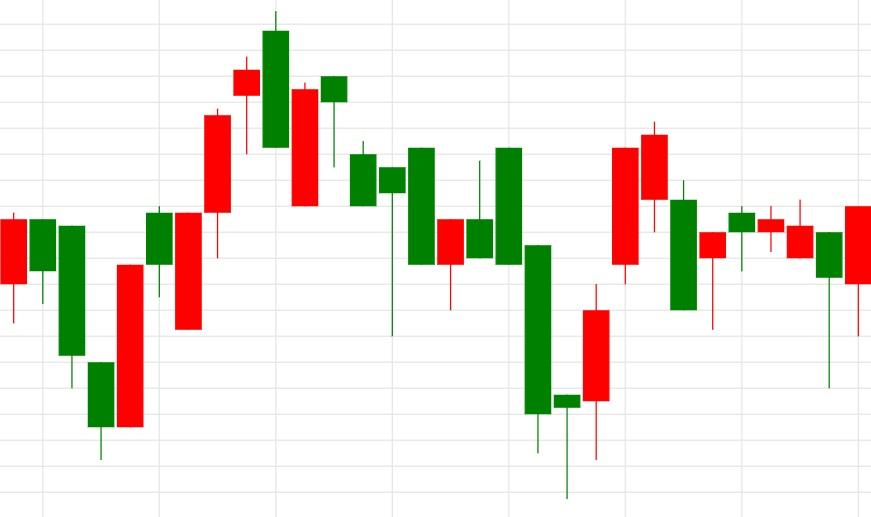hammer_rise: (640, 121, 727, 330)
morning_star_rise: (262, 10, 611, 499)
